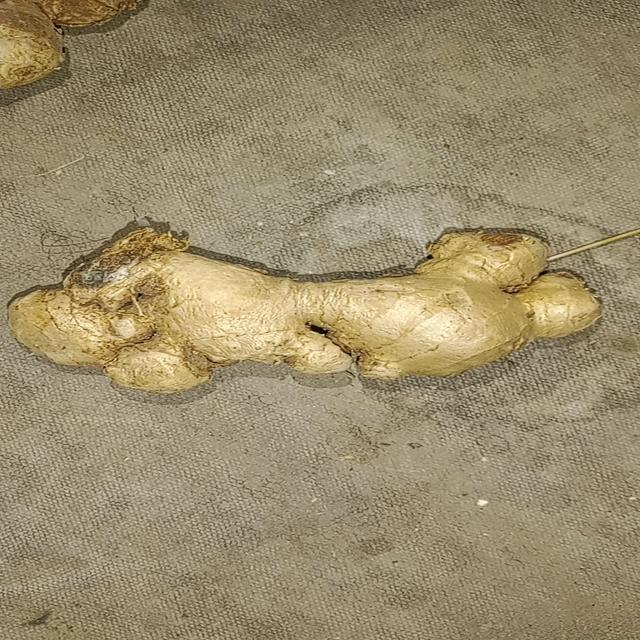ginger: (14, 223, 594, 404)
